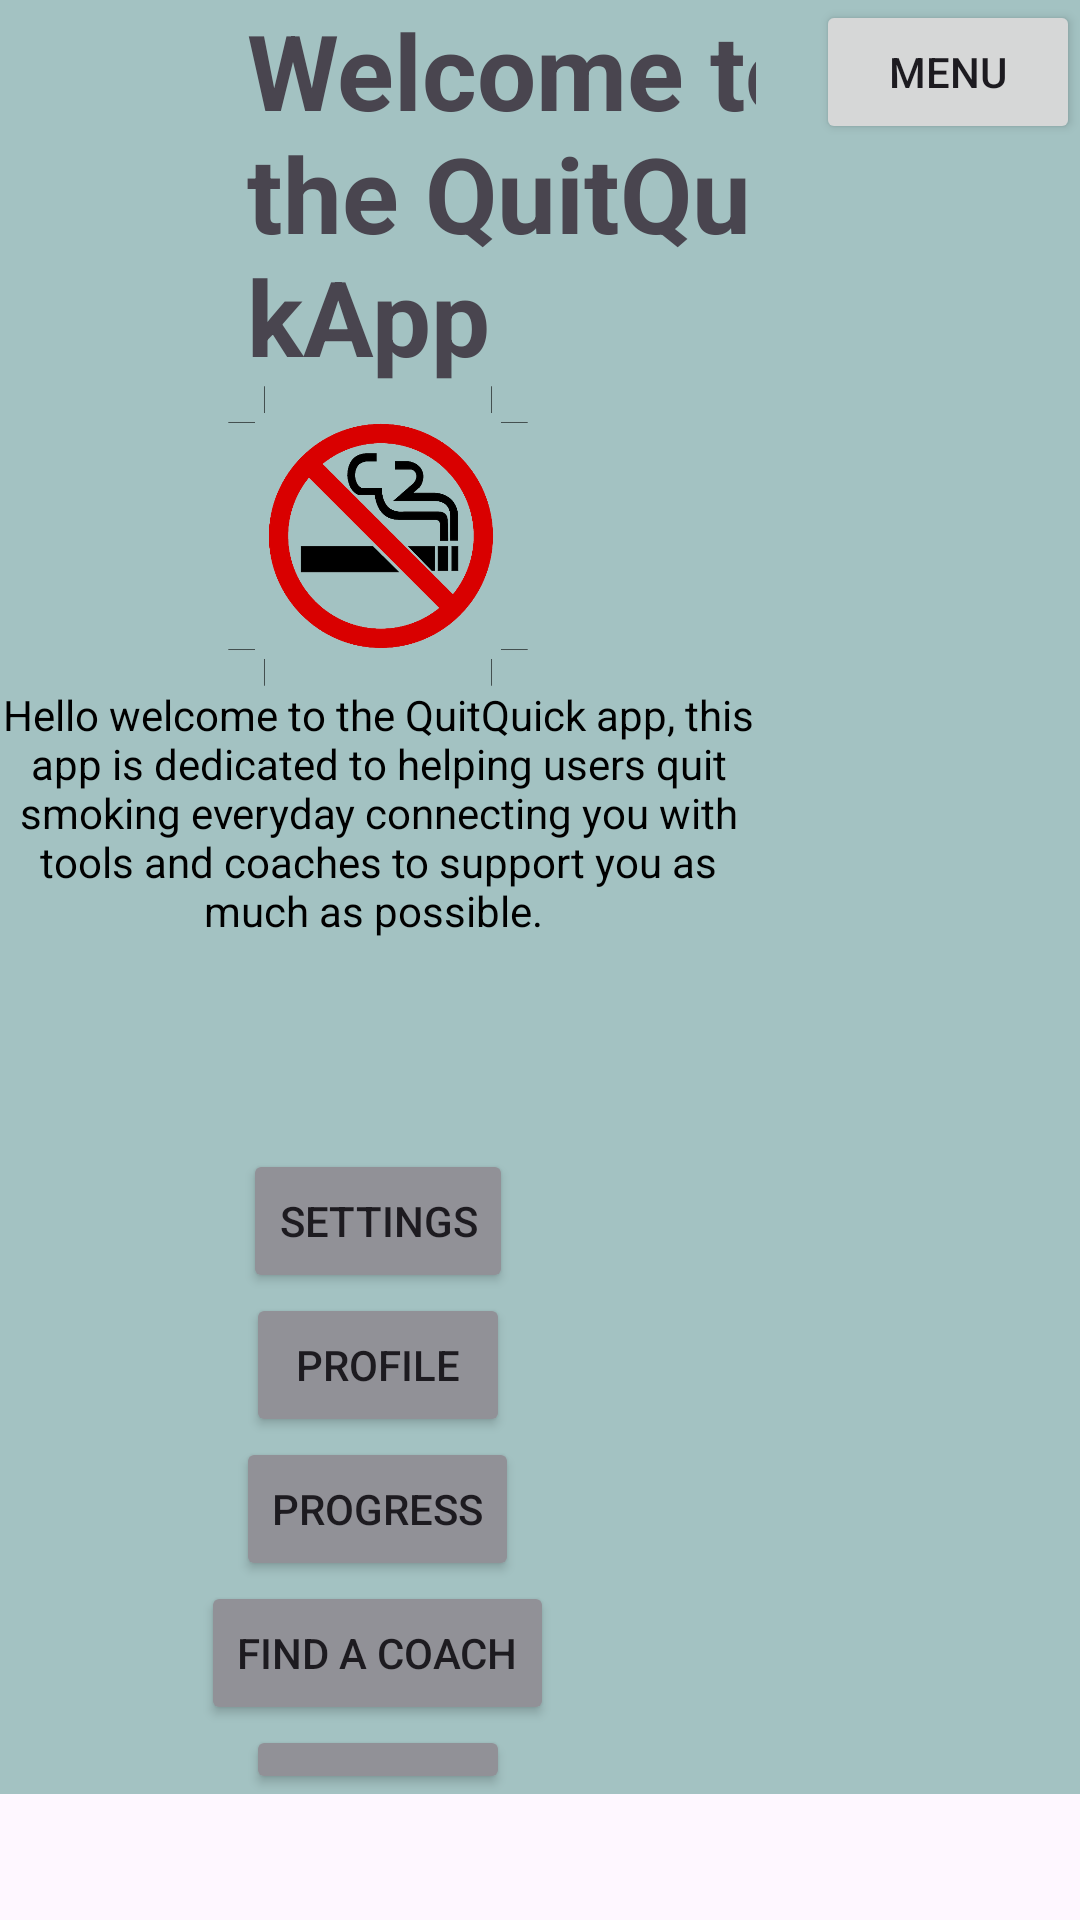

Screen size 1080px×1920px. Icon name, then its box in pixels as (x1, y1, x2, y2):
nosmoke: (228, 386, 528, 686)
